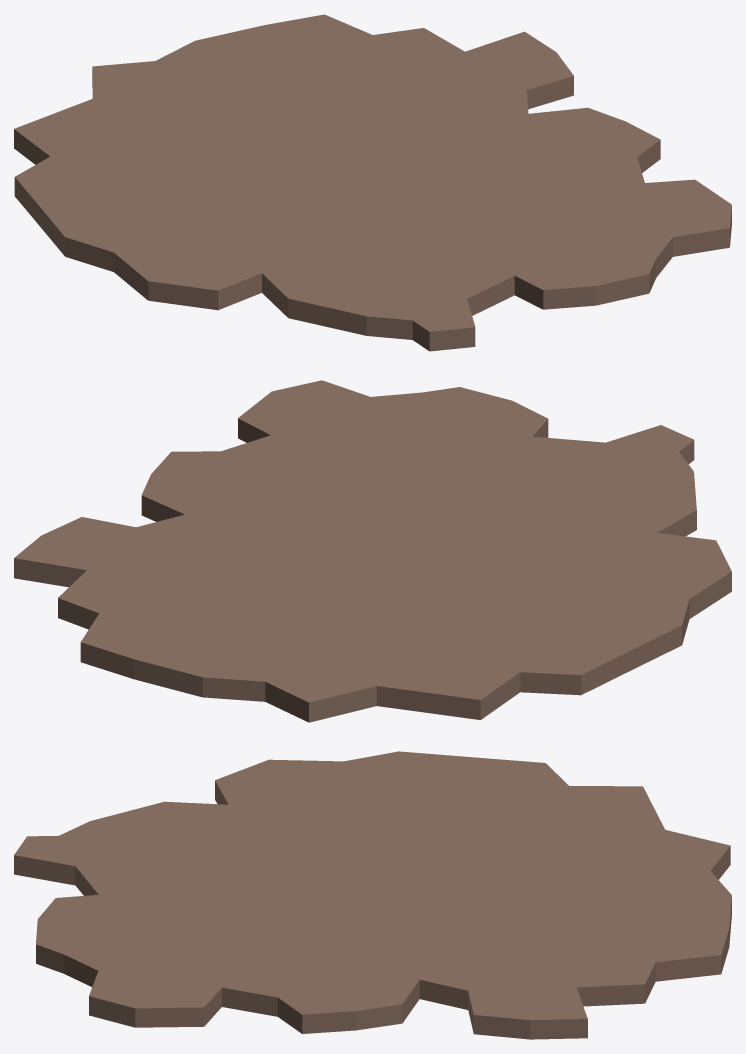
Rendered from SM_island10.fbx.
3 renders of one model, top to bottom at view 1: azimuth 30°, elevation 25°; view 2: azimuth 150°, elevation 25°; view 3: azimuth 270°, elevation 25°, orthographic. The views are drawn at different scales.
Visible parts, largest first — view 1: SM_island10; view 2: SM_island10; view 3: SM_island10.
Boxes of the visible parts, <box> form: SM_island10: <box>14,14,731,351</box>; SM_island10: <box>14,380,731,722</box>; SM_island10: <box>14,751,731,1039</box>.
Bounding box in the file's own units: 4678 × 157 × 5280.
